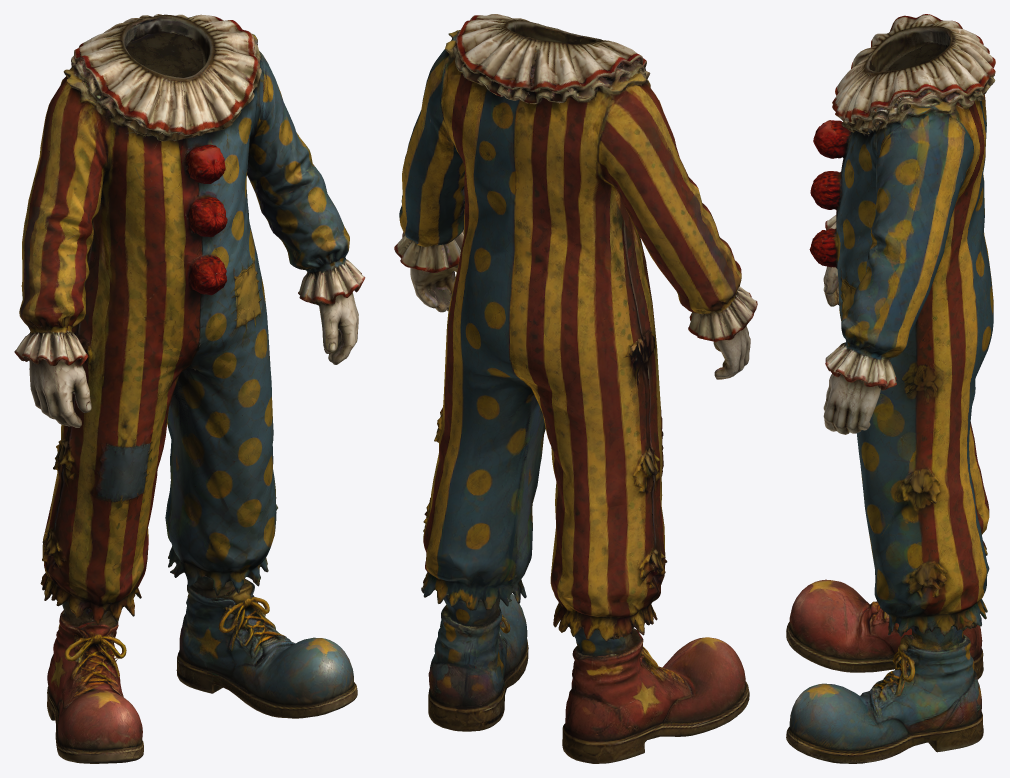
Rendered from Meshy_AI_Harlequin_Clown_Costu_0525230153_texture.fbx.
The picture shows the model from 3 angles, left to right: view 1: azimuth 30°, elevation 25°; view 2: azimuth 150°, elevation 25°; view 3: azimuth 270°, elevation 25°; orthographic projection. The views are drawn at different scales.
Parts seen in each view (by area): view 1: Mesh_0; view 2: Mesh_0; view 3: Mesh_0.
Part boxes in pixels (x1,y1,x2,y2): Mesh_0: [14, 14, 365, 763]; Mesh_0: [394, 14, 757, 763]; Mesh_0: [786, 14, 995, 763].
Size of the model in its own units: 99.83 by 191 by 54.32.
Materials: 1 (1 with a texture image).
